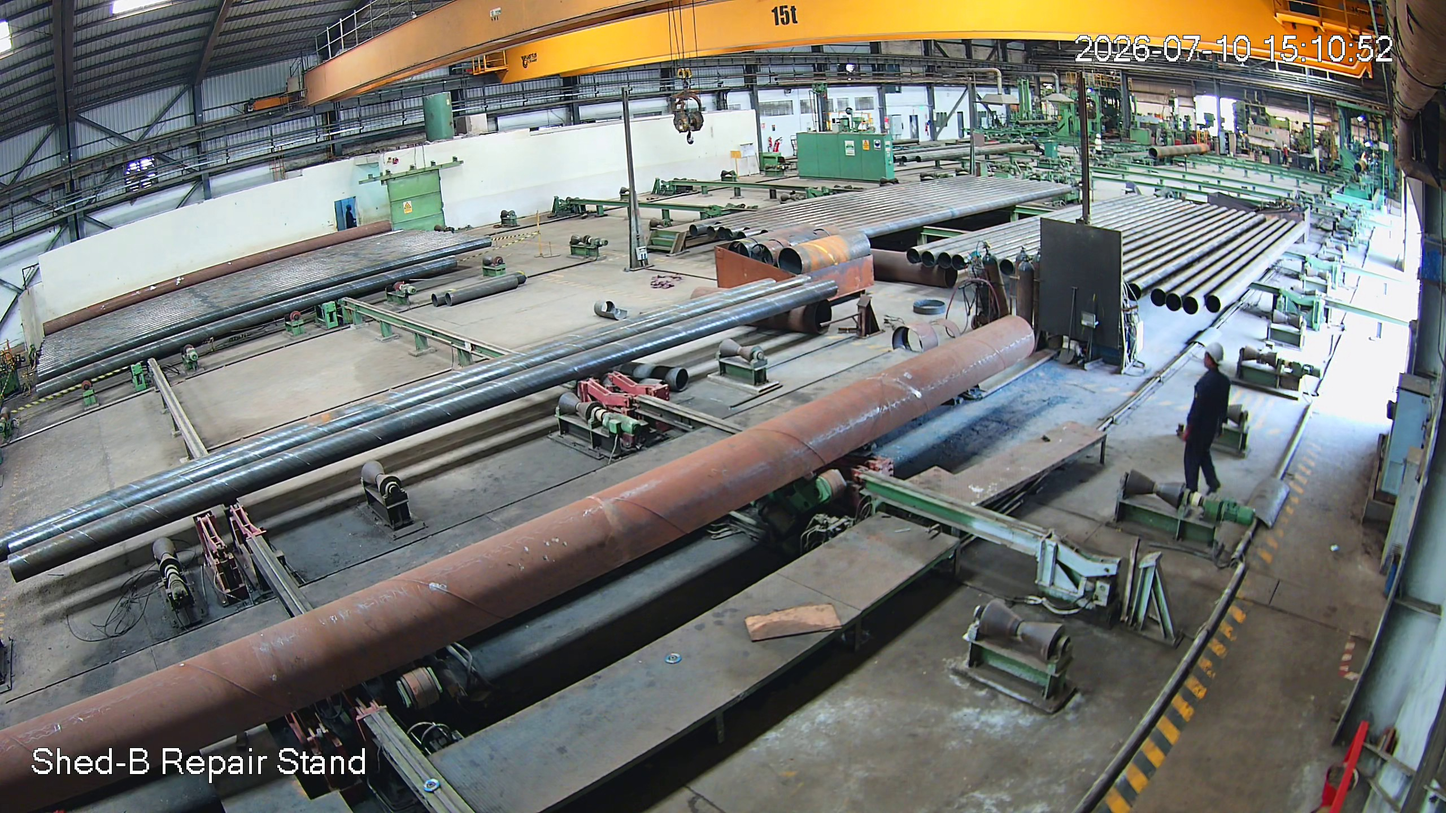Helmet: (1199, 340, 1229, 386)
Person: (1182, 346, 1235, 506)
